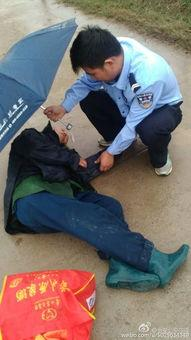bending: (72, 23, 182, 167)
down: (4, 121, 191, 292)
